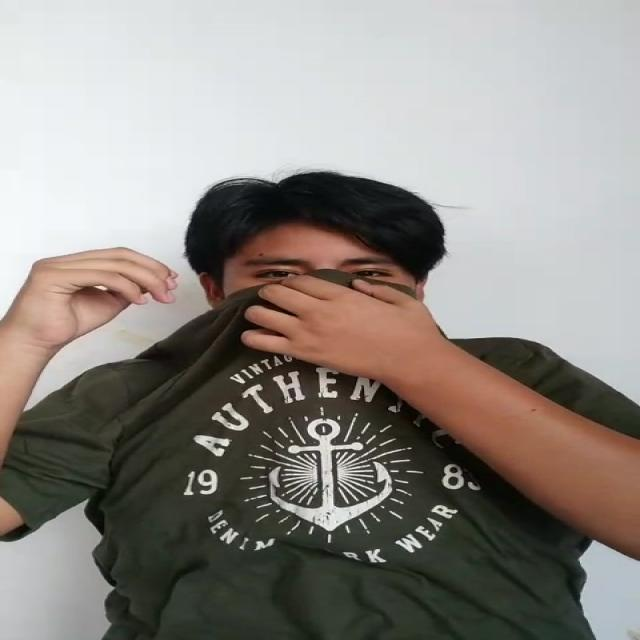8_ropa_rostro: (151, 270, 542, 400)
